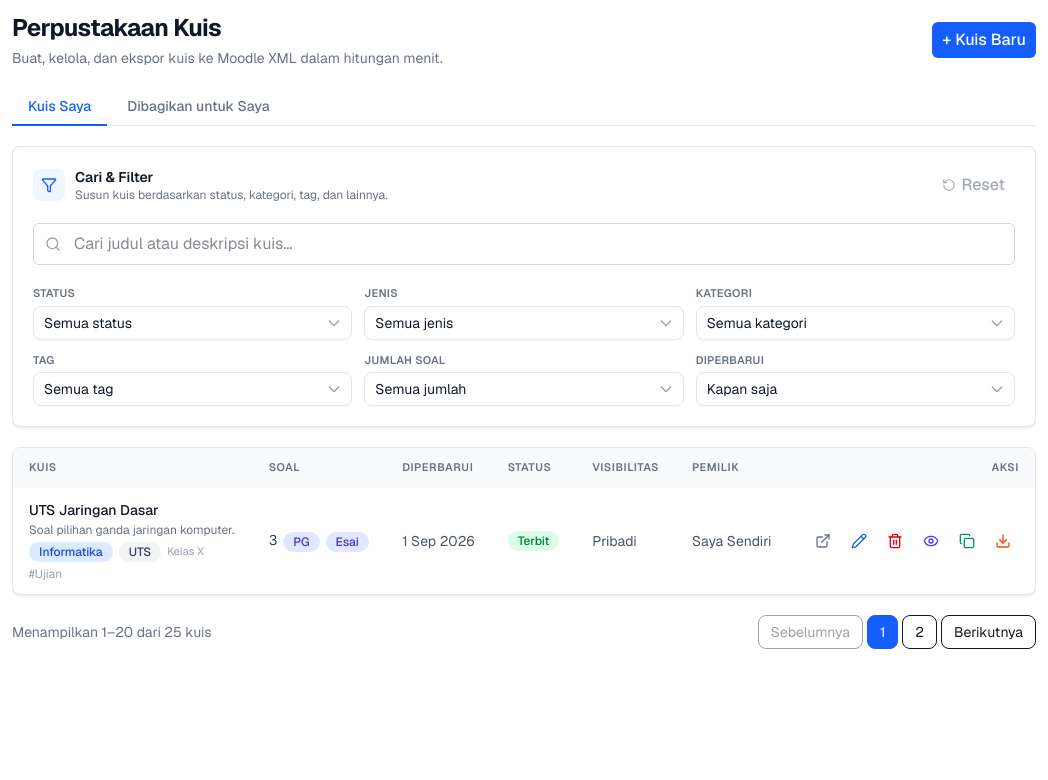
Test: QuizLibrary › exports a quiz to Moodle XML
Expected: the text "Menampilkan 1–20 dari 25 kuis" is shown, [12,622,212,642]
Click the button with test id "quiz-action-1-export" at (1003, 541), box [987,525,1019,557]
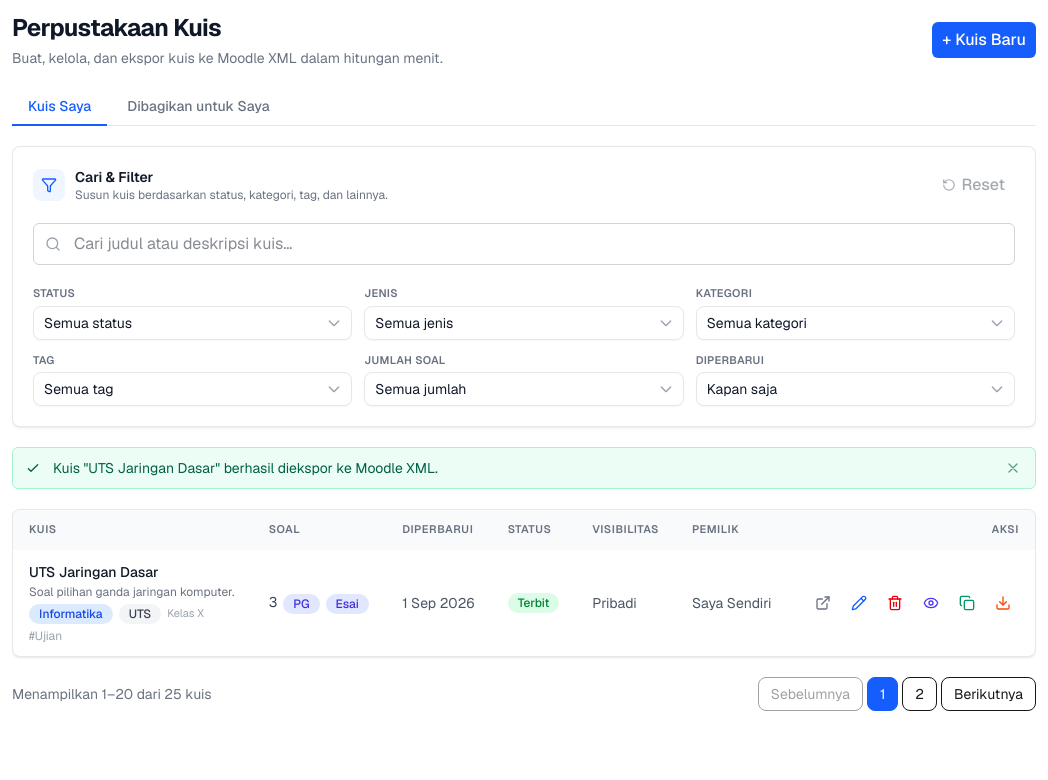
Result: the element with test id "quiz-notice" shows "Moodle XML" at [53,459,438,477]
